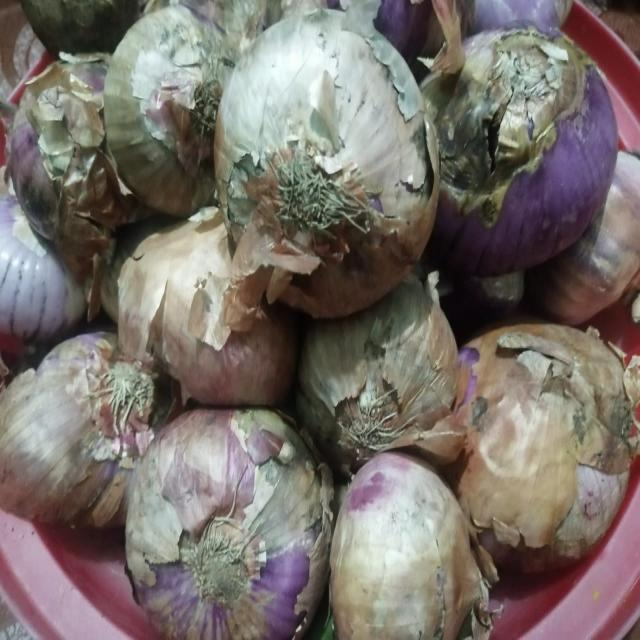rotten: (495, 346, 631, 444), (4, 136, 91, 260), (220, 419, 320, 521), (460, 95, 518, 196), (190, 27, 247, 80)
